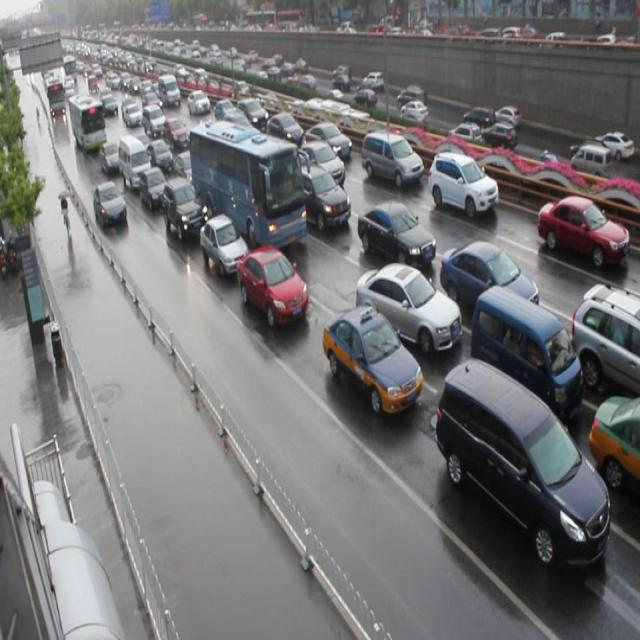car: (322, 304, 421, 414), (354, 264, 459, 356), (438, 240, 537, 322), (568, 284, 640, 394), (534, 194, 627, 267), (234, 247, 307, 327), (585, 396, 640, 494), (356, 200, 433, 270), (424, 156, 495, 222), (292, 164, 349, 233), (198, 214, 248, 275), (162, 178, 206, 240), (297, 140, 345, 188), (305, 120, 349, 163), (93, 179, 128, 230), (266, 110, 301, 150), (139, 166, 168, 211), (172, 150, 200, 188), (146, 139, 171, 173)
truck: (434, 359, 608, 568), (469, 284, 580, 416), (360, 132, 420, 188)
van: (187, 119, 304, 251)
